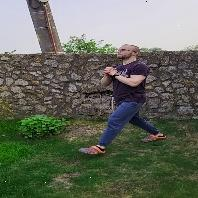lunges: (75, 38, 172, 165)
